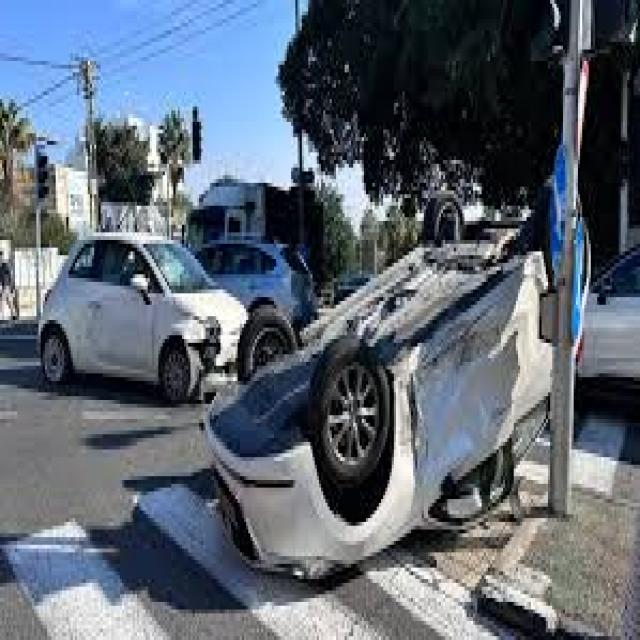Accident: (201, 187, 560, 583)
